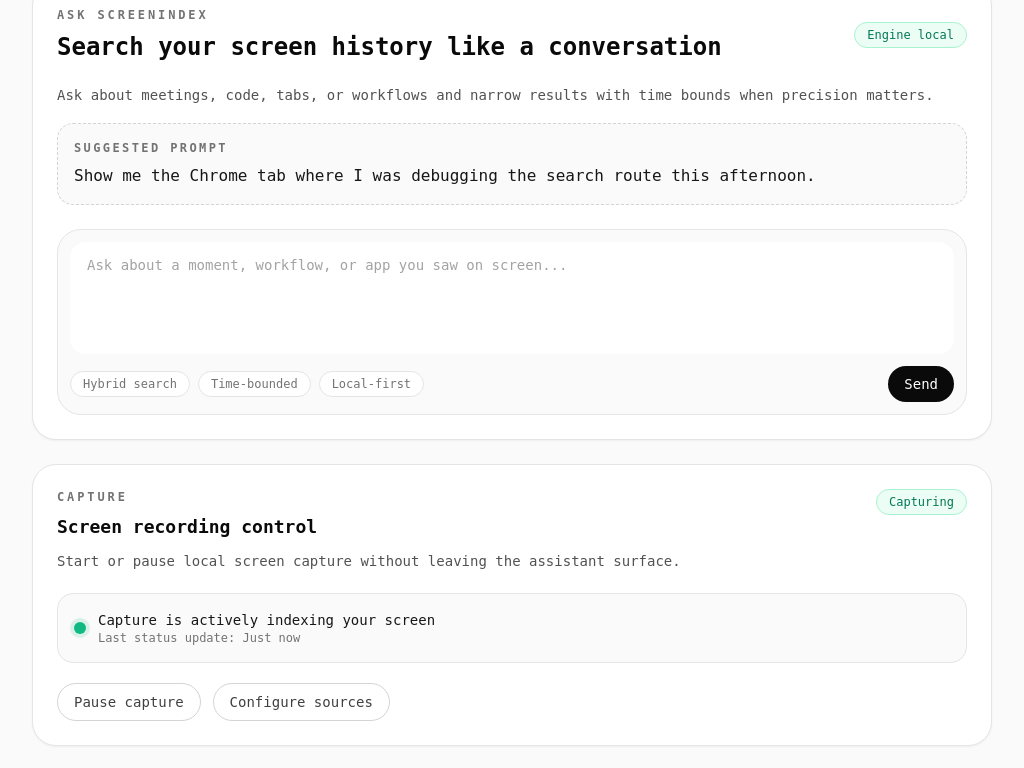
Test: HomeView › opens the chat screen from the composer send button
(page scrolled)
Click the button "Send".
click(921, 384)  # box x1=888 y1=366 x2=954 y2=402
(page scrolled)
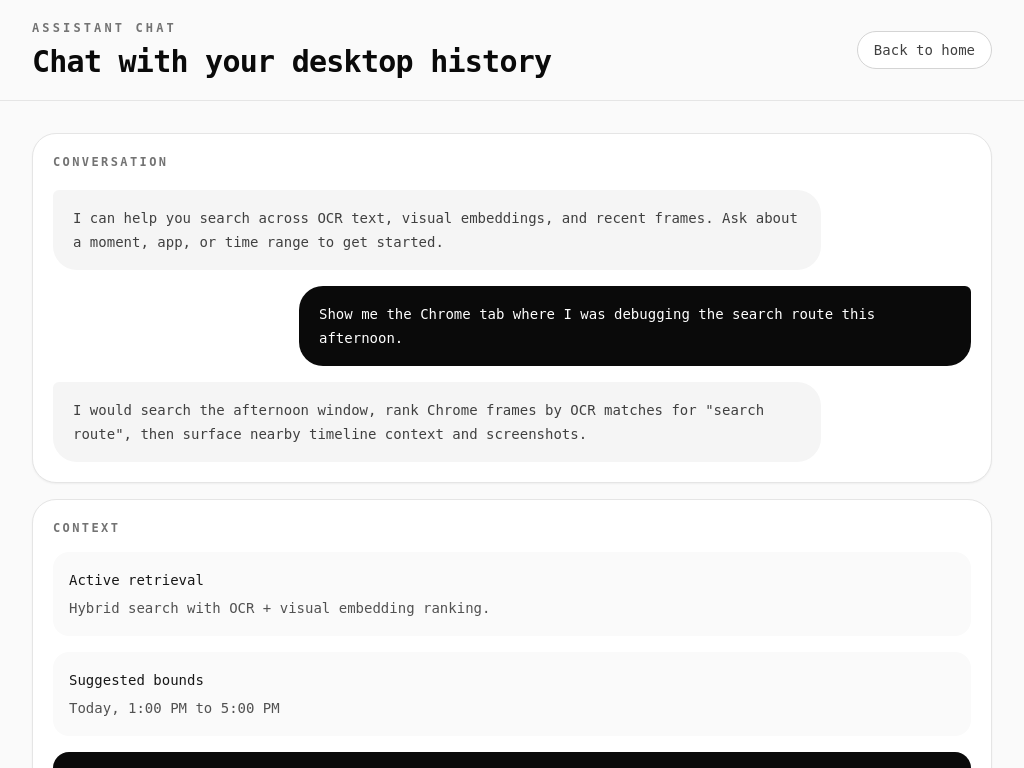
Now the heading "Chat with your desktop history" is shown, box x1=32 y1=44 x2=551 y2=80
